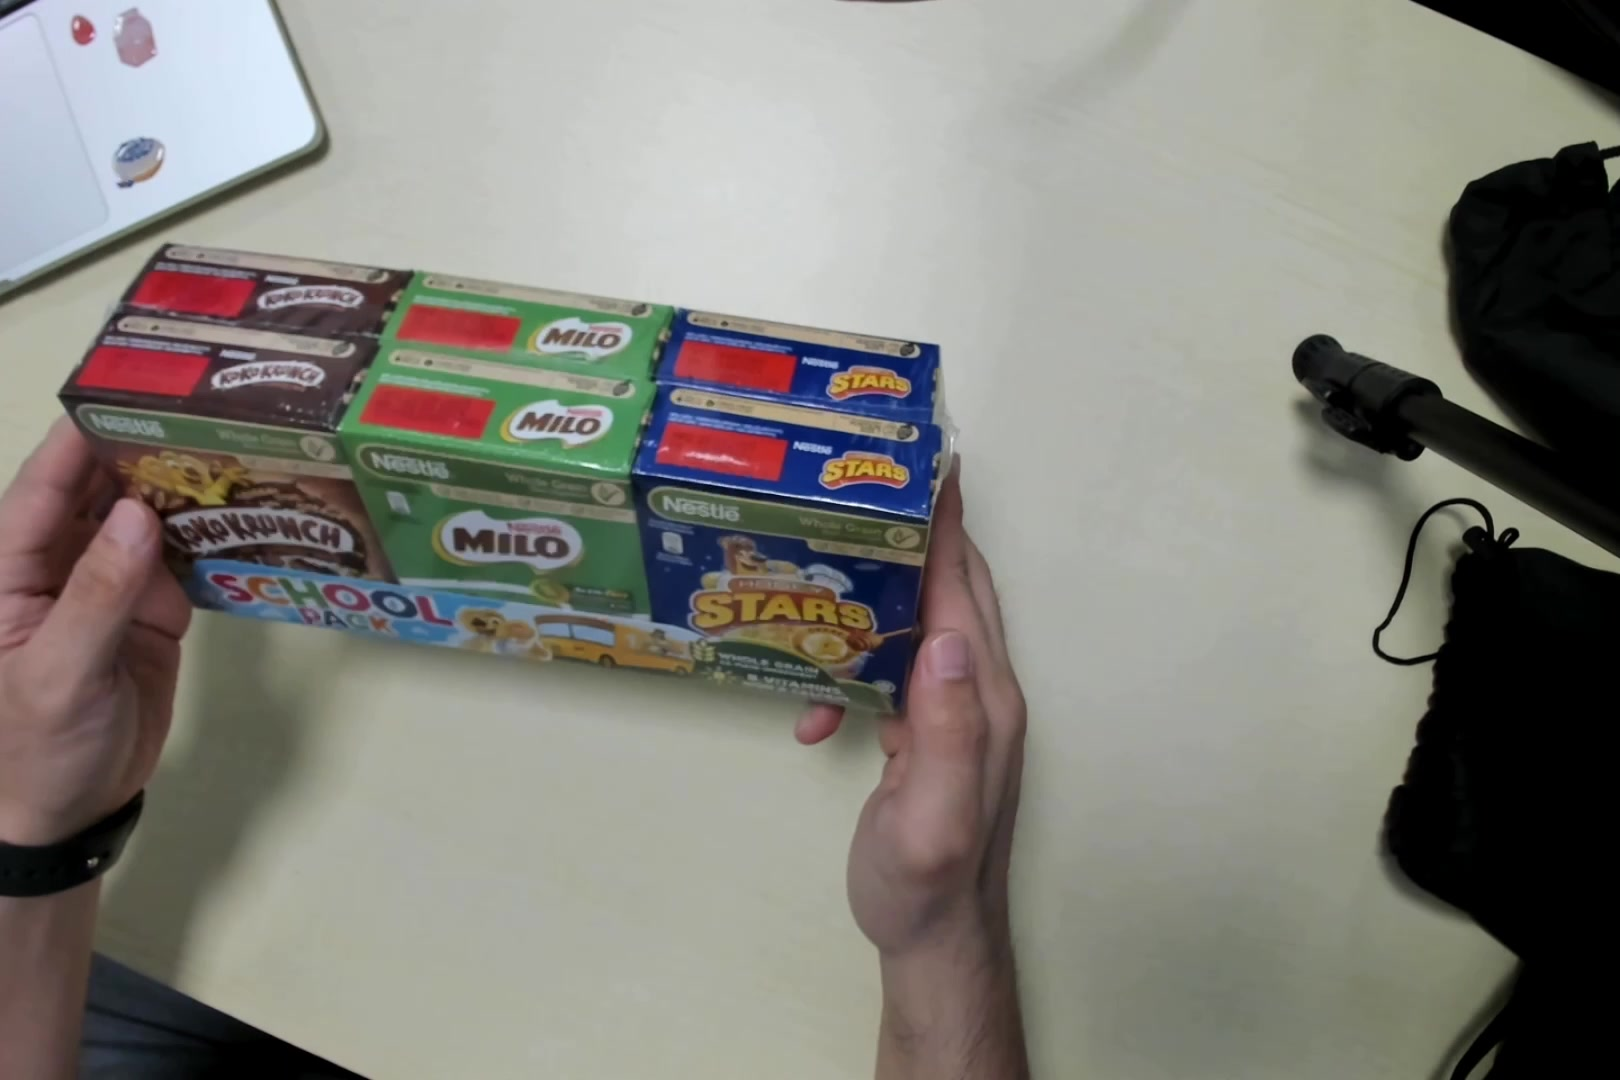BreakfastCereals_100-199g_Halal_NonHealthy: (69, 246, 950, 723)
